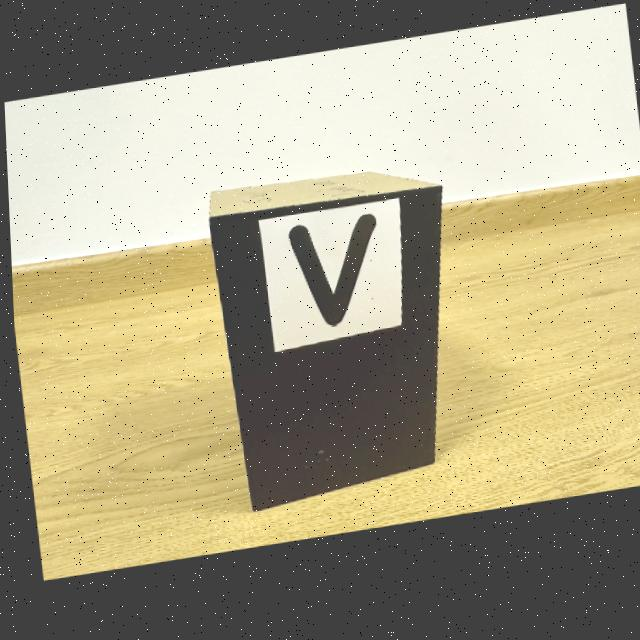V: (286, 221, 373, 331)
